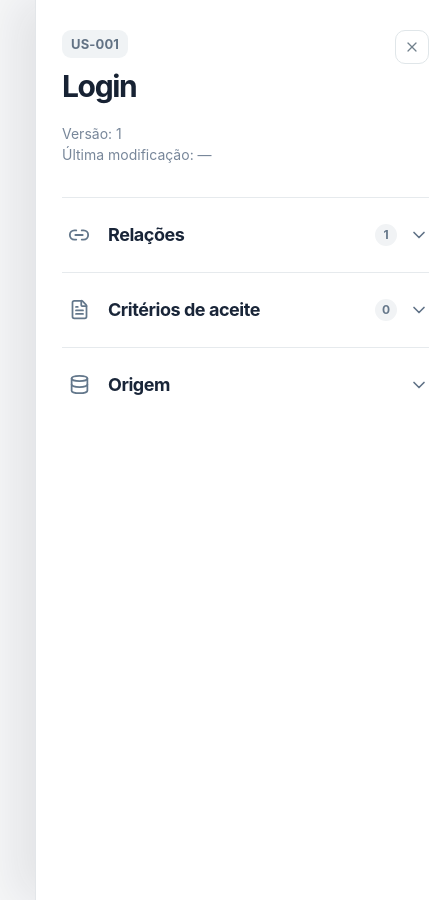
Test case: RequirementDrawer relations › keeps related stories navigable in read mode while hiding their action menu
Click the button "Relações 1": (146, 234) x1=62 y1=198 x2=429 y2=272
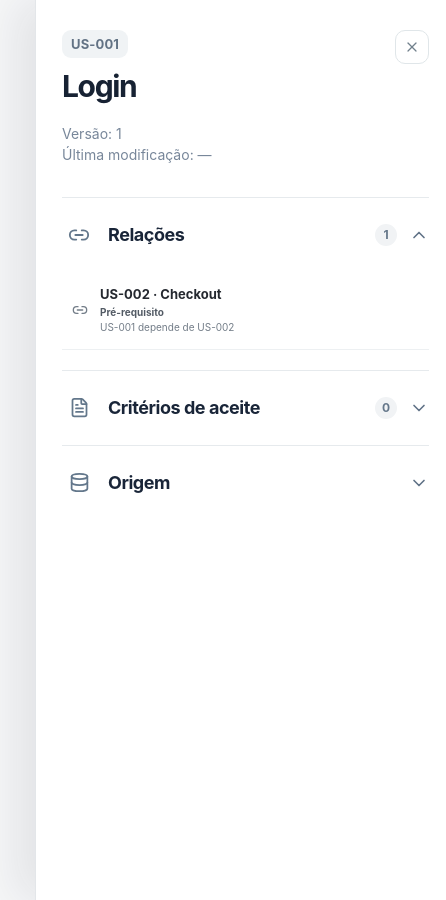
Expected: the button with class "relation-row-link" is shown, x1=62 y1=276 x2=389 y2=344
